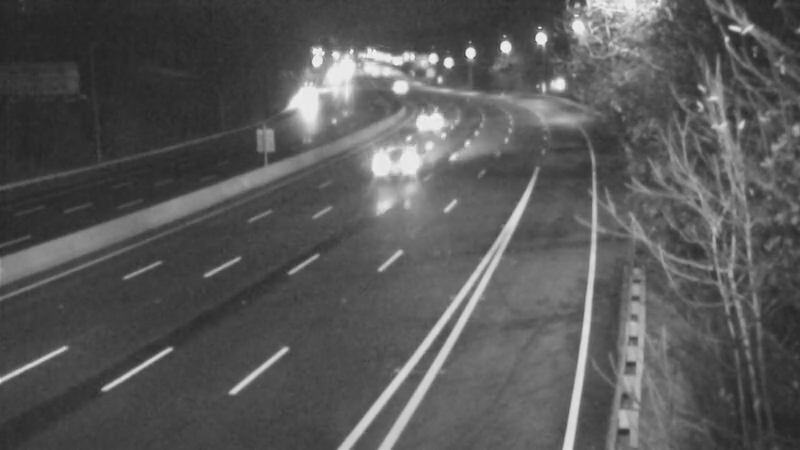vehicle: (361, 123, 441, 203), (375, 59, 425, 109), (406, 86, 456, 136)
